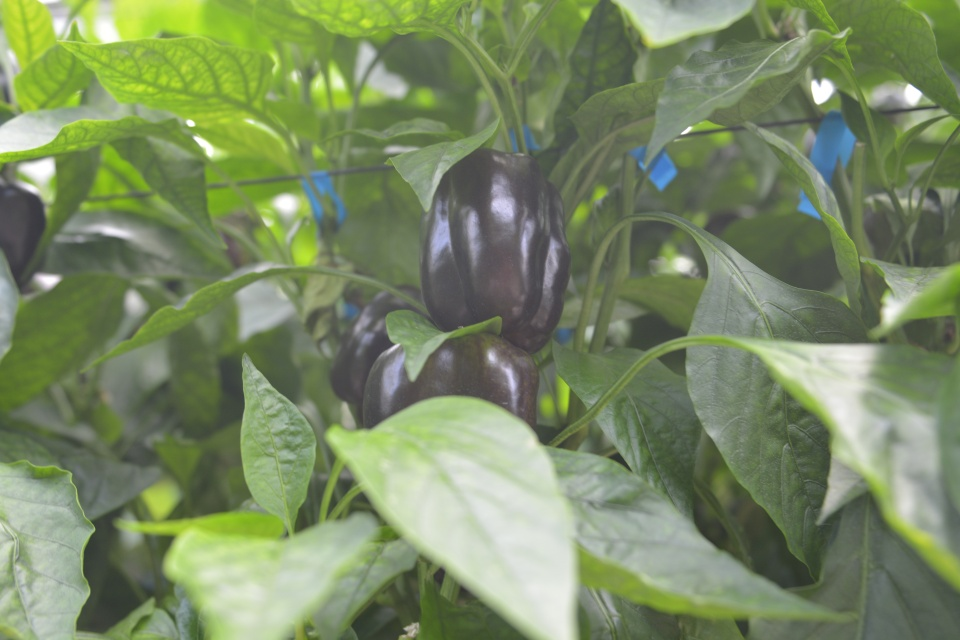fruit: (416, 144, 574, 357), (359, 330, 540, 439), (326, 280, 438, 426), (0, 175, 48, 291)
